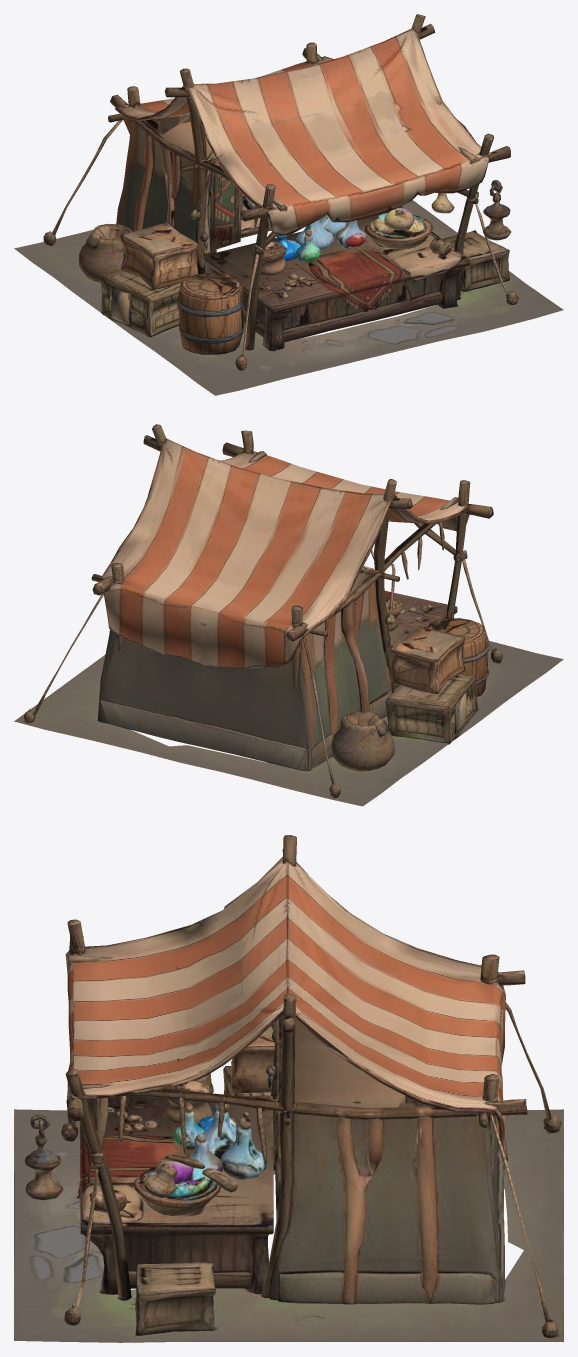
Rendered from praca_mercado.glb.
3 renders of one model, top to bottom at view 1: azimuth 30°, elevation 25°; view 2: azimuth 150°, elevation 25°; view 3: azimuth 270°, elevation 25°, orthographic. The views are drawn at different scales.
Parts seen in each view (by area): view 1: mesh_node; view 2: mesh_node; view 3: mesh_node.
Boxes of the visible parts, bbox=[...] form: mesh_node: bbox=[14, 14, 563, 395]; mesh_node: bbox=[14, 424, 563, 806]; mesh_node: bbox=[14, 835, 563, 1342].
Size of the model in its own units: 1 by 0.666 by 1.
1 material, 1 textured.
